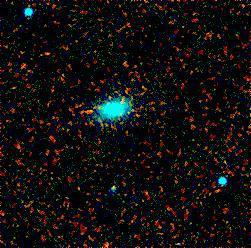star: (66, 173, 96, 203)
